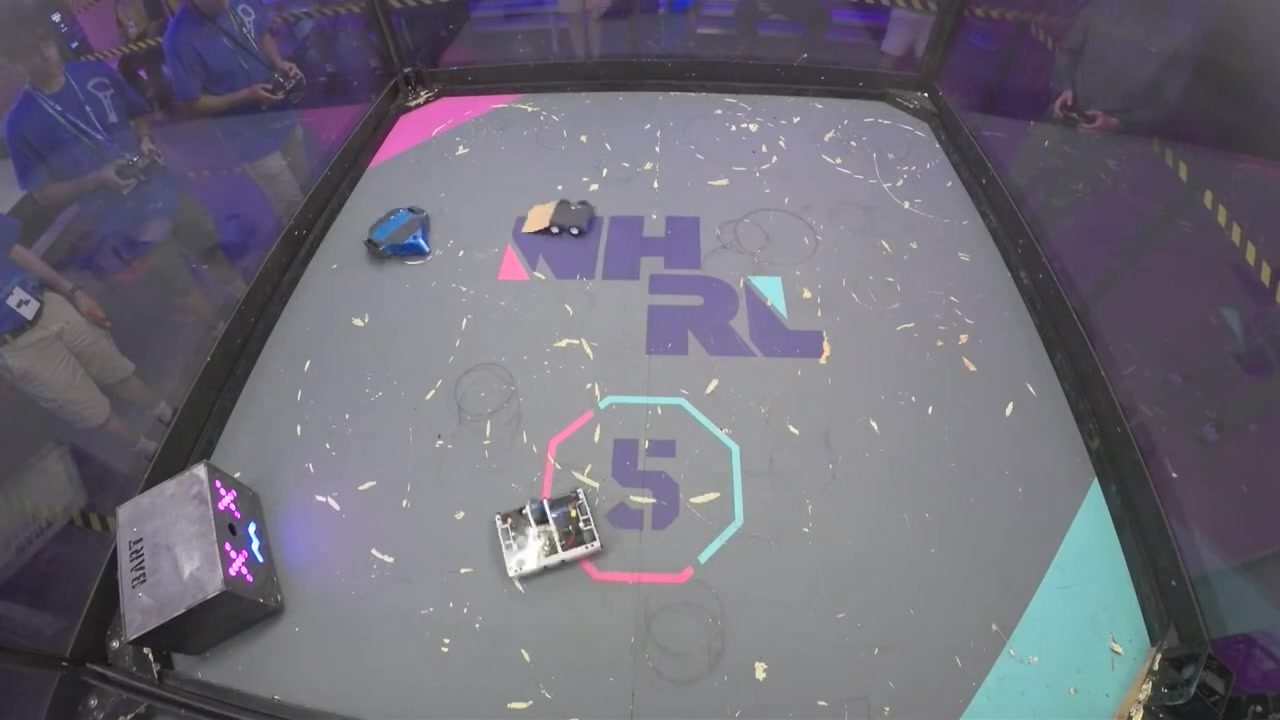combatbot: (492, 488, 604, 579), (365, 205, 433, 264)
housebot: (114, 460, 288, 655)
minibot: (525, 198, 598, 240)
